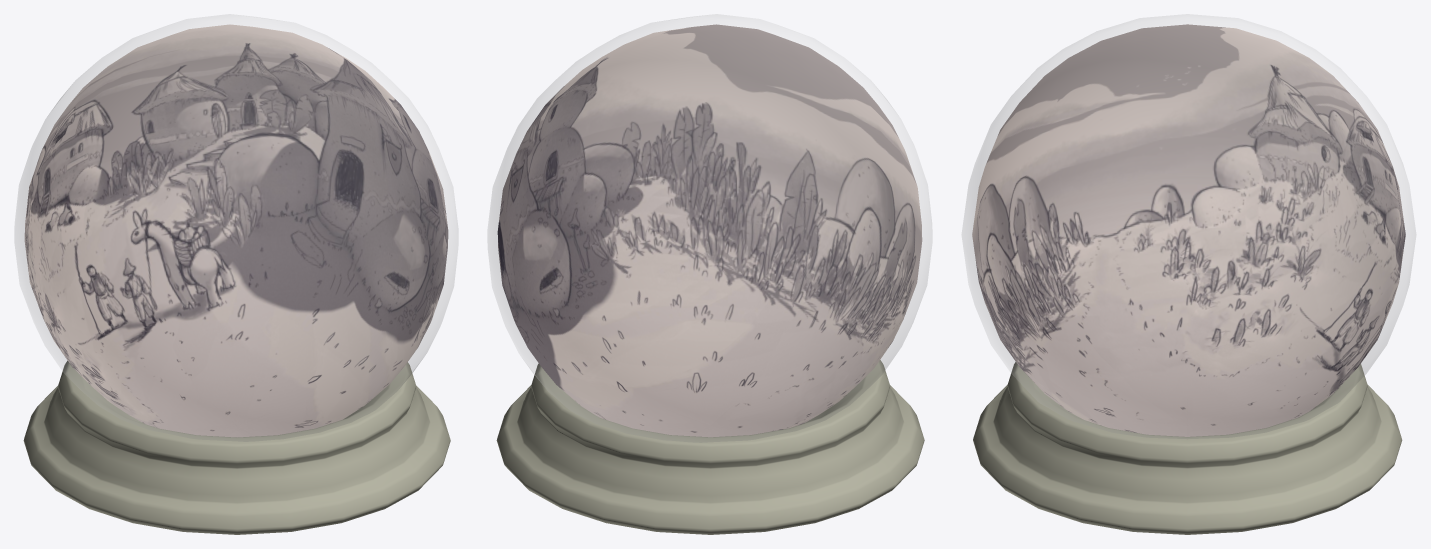
3 views of the same model, side by side, from view 1: azimuth 30°, elevation 25°; view 2: azimuth 150°, elevation 25°; view 3: azimuth 270°, elevation 25° (orthographic).
Parts seen in each view (by area): view 1: 001_0, Cube, 002_0; view 2: 001_0, Cube, 002_0; view 3: 001_0, Cube, 002_0.
Part boxes in pixels (<box>): 001_0: <box>14,14,458,441</box>; Cube: <box>24,24,448,437</box>; 002_0: <box>23,361,450,534</box>; 001_0: <box>487,14,932,442</box>; Cube: <box>497,24,922,437</box>; 002_0: <box>496,360,924,534</box>; 001_0: <box>962,14,1415,438</box>; Cube: <box>972,24,1405,436</box>; 002_0: <box>973,362,1402,534</box>.
Bounding box in the file's own units: 2.7 × 2.78 × 2.78.
3 materials, 1 textured.
